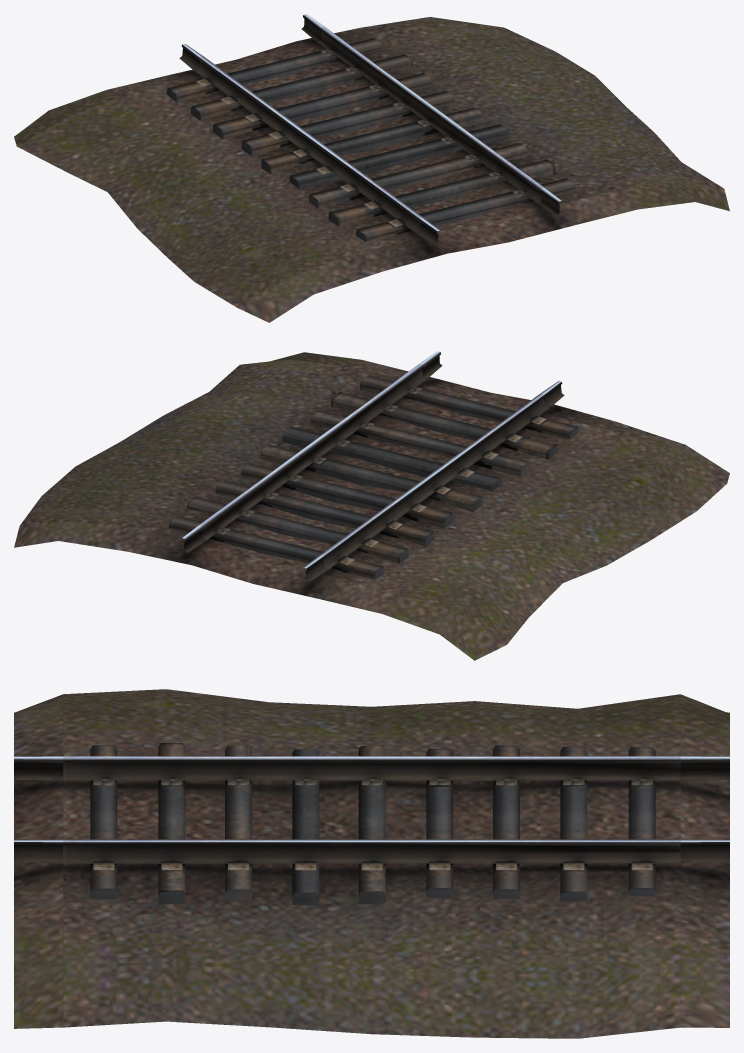
File: 1track_5_der_TSM.gltf
The picture shows the model from 3 angles, top to bottom: view 1: azimuth 30°, elevation 25°; view 2: azimuth 150°, elevation 25°; view 3: azimuth 270°, elevation 25°; orthographic projection. The views are drawn at different scales.
Bounding box in the file's own units: 6.7 × 0.6438 × 5.8.
1 material, 1 textured.
